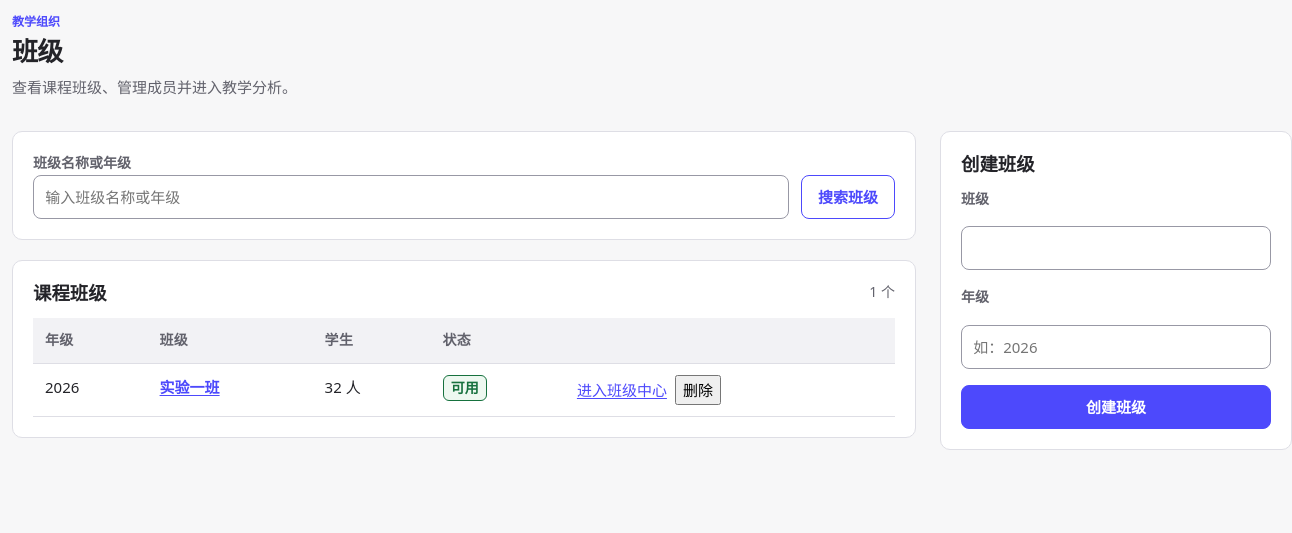
Test: TeacherClassList › shows an API validation failure without navigating away
Type "实验二班" into the field named "name" at (1116, 248), box [961, 226, 1271, 270]
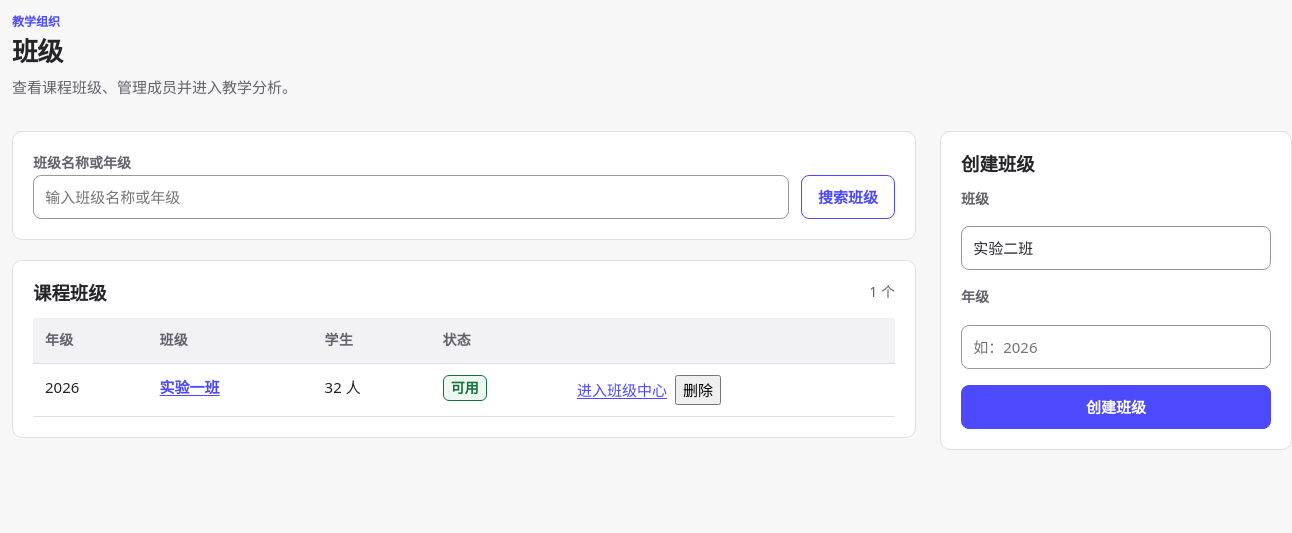
Type "2027秋" into the field named "academic_year" at (1116, 347), box [961, 325, 1271, 369]
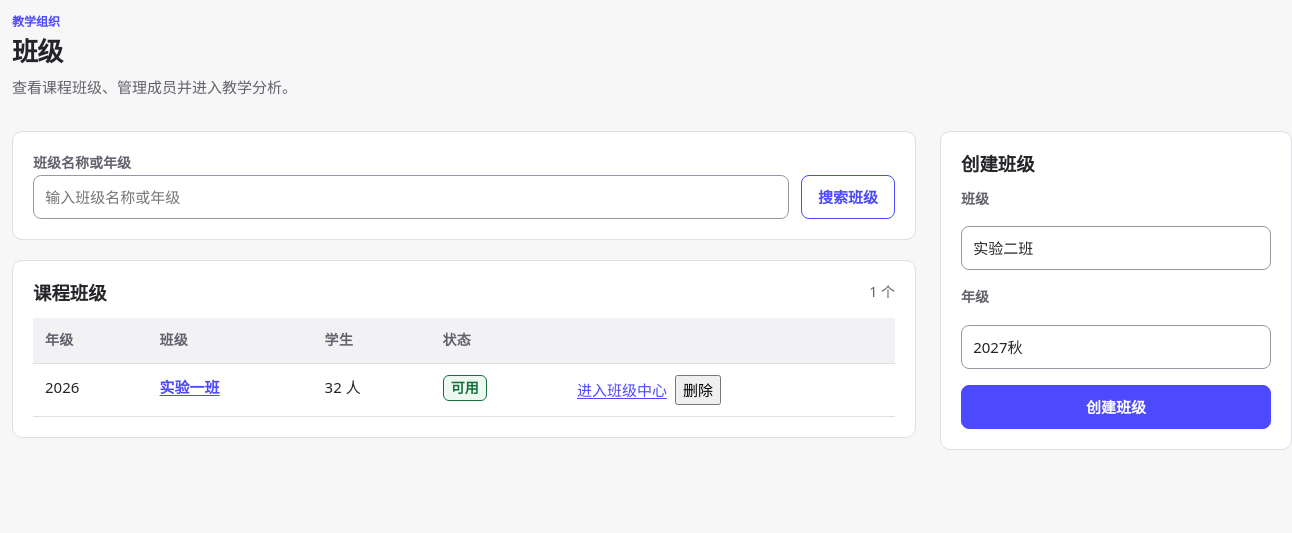
Submit the form with class "kt-class-create-form", box [961, 188, 1271, 429]
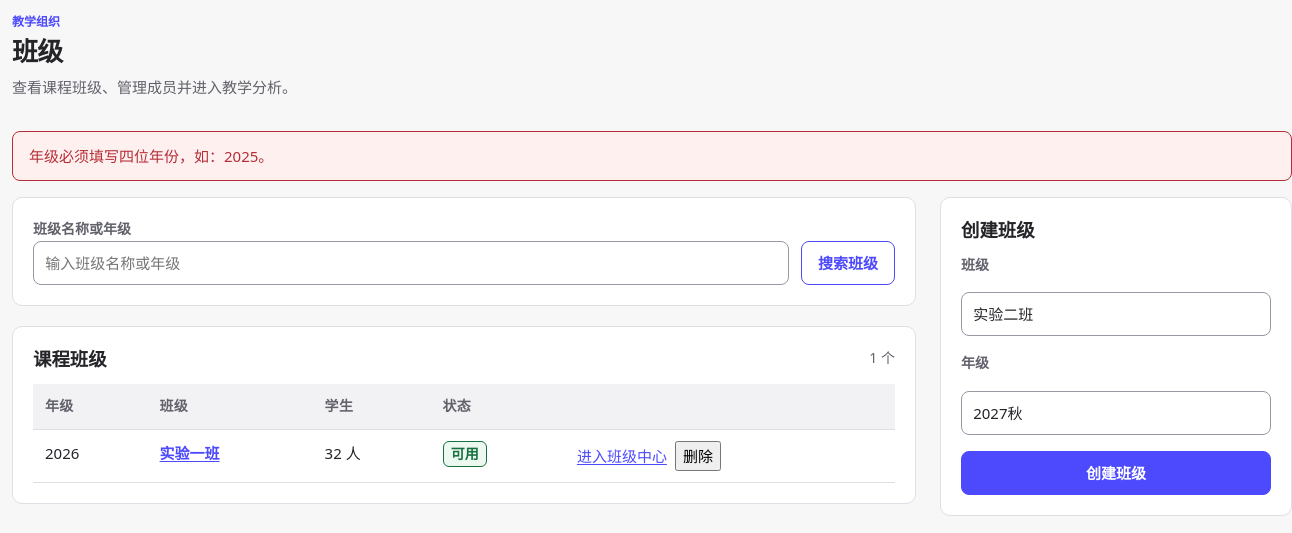
Check: the text "年级必须填写四位年份，如：2025。" is shown, box [12, 131, 1291, 181]
